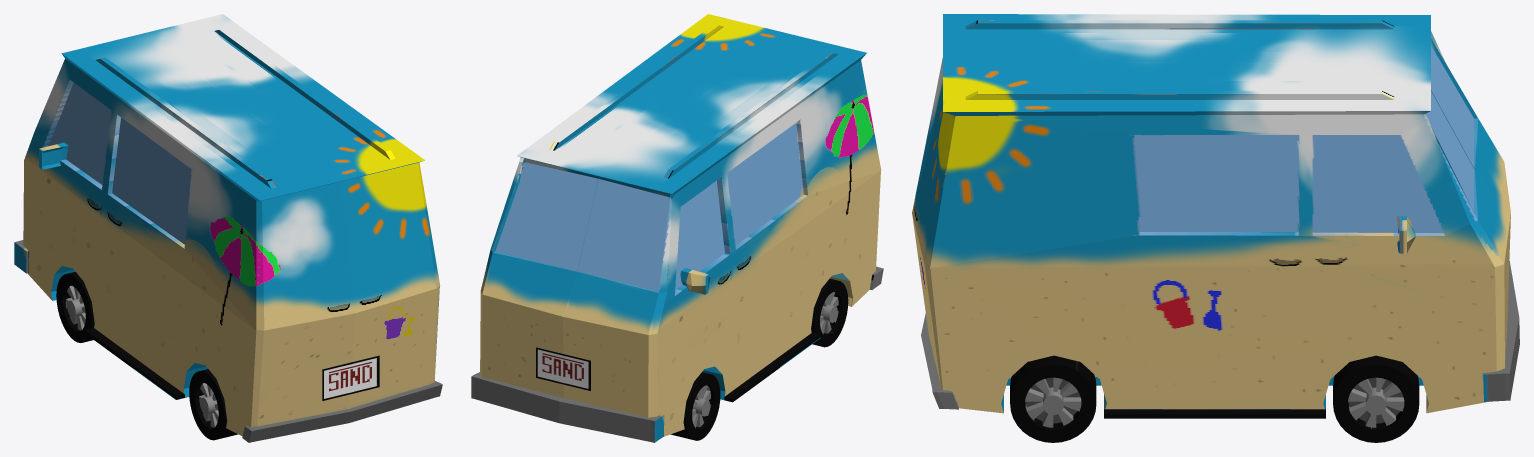
The model's file is sandVanActual3.fbx.
3 views of the same model, side by side, from view 1: azimuth 30°, elevation 25°; view 2: azimuth 150°, elevation 25°; view 3: azimuth 270°, elevation 25° (orthographic). The views are drawn at different scales.
Visible parts, largest first — view 1: Body, BackWheel.L, FrontWheel.L, BackLicensePlate; view 2: Body, FrontWheel.L, BackWheel.L, FrontLicensePlate; view 3: Body, BackWheel.R, FrontWheel.R.
Part boxes in pixels (x1,y1,x2,y2): Body: (14,14,442,442); BackWheel.L: (189,369,237,440); FrontWheel.L: (56,272,94,342); BackLicensePlate: (322,355,379,400); Body: (471,14,883,442); FrontWheel.L: (670,372,720,440); BackWheel.L: (811,278,848,347); FrontLicensePlate: (536,347,590,390); Body: (912,14,1519,418); BackWheel.R: (1010,355,1096,442); FrontWheel.R: (1333,355,1419,442).
Bounding box in the file's own units: 485 × 569 × 944.
Materials: 6 (6 with a texture image).
